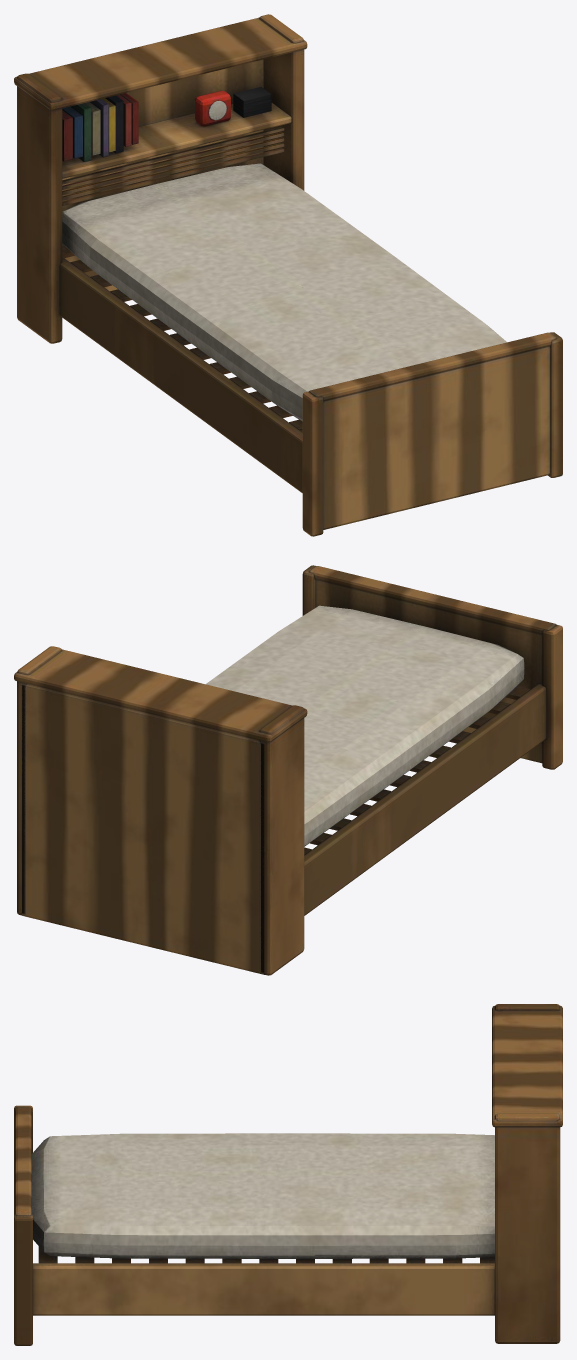
Rendered from sz_bett.glb.
3 views of the same model, one above another, from view 1: azimuth 30°, elevation 25°; view 2: azimuth 150°, elevation 25°; view 3: azimuth 270°, elevation 25° (orthographic). The views are drawn at different scales.
Parts seen in each view (by area): view 1: sz_bett; view 2: sz_bett; view 3: sz_bett.
Boxes of the visible parts, box(x1,y1,x2,y2) form: sz_bett: box(14, 14, 562, 536); sz_bett: box(14, 565, 562, 975); sz_bett: box(14, 1004, 562, 1345).
Size of the model in its own units: 1.01 by 0.93 by 2.01.
1 material, 1 textured.
